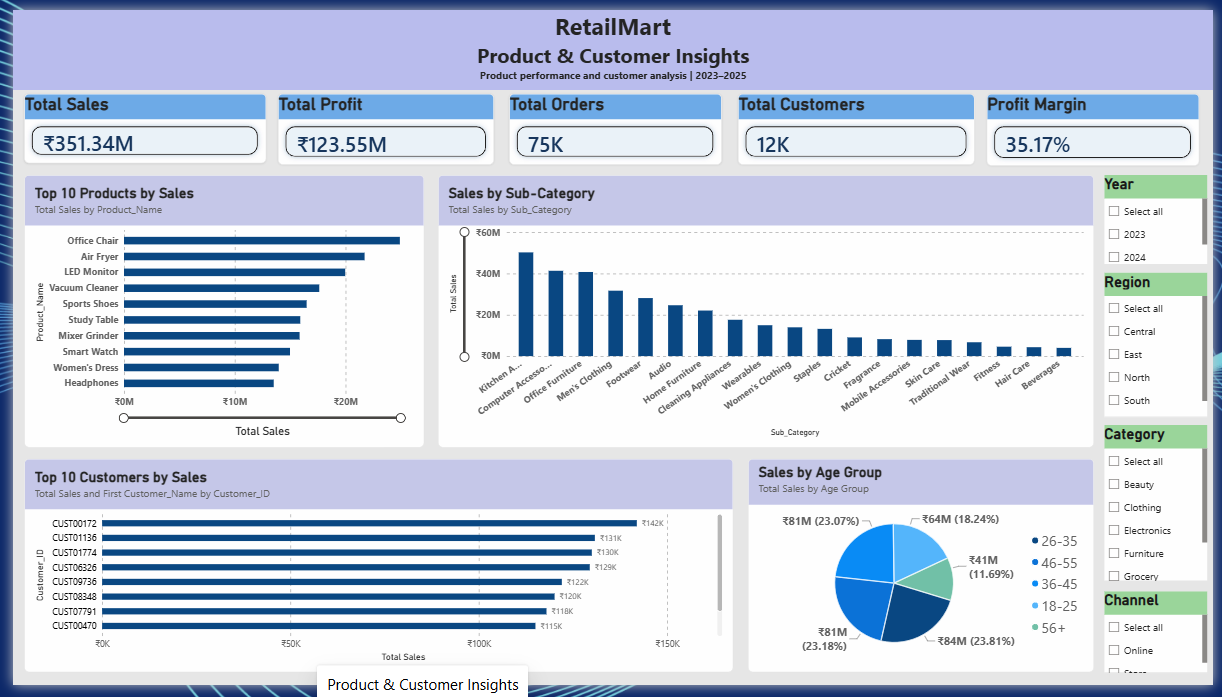

The page's visual inventory and layout, read from the dashboard file:
{"tool":"powerbi","page":{"name":"Product & Customer Insights","canvas":[1920,1080],"ordinal":1},"visuals":[{"type":"textbox","box":[0,0,1920.4,127.6],"z":0},{"type":"cardVisual","title":"  Total Sales","fields":{"Data":["Sales_Data.Total Sales"]},"box":[18.5,133.8,387,111.1],"z":1000},{"type":"cardVisual","title":"Total Profit","fields":{"Data":["Sales_Data.Total Profit"]},"box":[424,133.8,345.8,113.2],"z":2000},{"type":"cardVisual","title":"Total Orders","fields":{"Data":["Sales_Data.Total Orders"]},"box":[794.5,133.8,339.6,113.2],"z":3000},{"type":"cardVisual","title":"Total Customers","fields":{"Data":["Sales_Data.Total Customers"]},"box":[1160.9,133.8,378.7,113.2],"z":4000},{"type":"cardVisual","title":"Profit Margin","fields":{"Data":["Sales_Data.Profit Margin"]},"box":[1558.2,133.8,339.6,115.3],"z":5000},{"type":"slicer","title":"Year","fields":{"Values":["Sales_Data.Order_Date.Variation.Date Hierarchy.Year"]},"box":[1745.5,263.5,164.7,142],"z":6000},{"type":"slicer","title":"Region","fields":{"Values":["Sales_Data.Region"]},"box":[1745.5,419.9,164.7,230.5],"z":7000},{"type":"slicer","title":"Category","fields":{"Values":["Sales_Data.Category"]},"box":[1745.5,664.8,164.7,249.1],"z":8000},{"type":"slicer","title":"Channel","fields":{"Values":["Sales_Data.Channel"]},"box":[1745.5,930.4,164.7,129.7],"z":9000},{"type":"clusteredBarChart","title":"Top 10 Customers by Sales","fields":{"Category":["Sales_Data.Customer_ID"],"Y":["Sales_Data.Total Sales"]},"box":[18.5,718.4,1134.1,341.7],"z":10000},{"type":"clusteredBarChart","title":"Top 10 Products by Sales","fields":{"Category":["Sales_Data.Product_Name"],"Y":["Sales_Data.Total Sales"]},"box":[18.5,263.5,640.1,436.4],"z":11000},{"type":"clusteredColumnChart","title":"Sales by Sub-Category","fields":{"Category":["Sales_Data.Sub_Category"],"Y":["Sales_Data.Total Sales"]},"box":[679.2,263.5,1049.7,436.4],"z":12000},{"type":"pieChart","title":"Sales by Age Group","fields":{"Category":["Sales_Data.Age Group"],"Y":["Sales_Data.Total Sales"]},"box":[1175.3,718.4,553.7,341.7],"z":13000}]}

Visuals, with their boxes in screenshot pixels (x1, y1, x2, y2), scaled from the page's 1920x1080 canvas onto the 1222x697 screenshot:
textbox: [0, 0, 1221, 82]
"  Total Sales" cardVisual: [12, 86, 258, 158]
"Total Profit" cardVisual: [270, 86, 490, 159]
"Total Orders" cardVisual: [506, 86, 722, 159]
"Total Customers" cardVisual: [739, 86, 980, 159]
"Profit Margin" cardVisual: [992, 86, 1208, 161]
"Year" slicer: [1111, 170, 1216, 262]
"Region" slicer: [1111, 271, 1216, 420]
"Category" slicer: [1111, 429, 1216, 590]
"Channel" slicer: [1111, 600, 1216, 684]
"Top 10 Customers by Sales" clusteredBarChart: [12, 464, 734, 684]
"Top 10 Products by Sales" clusteredBarChart: [12, 170, 419, 452]
"Sales by Sub-Category" clusteredColumnChart: [432, 170, 1100, 452]
"Sales by Age Group" pieChart: [748, 464, 1100, 684]
